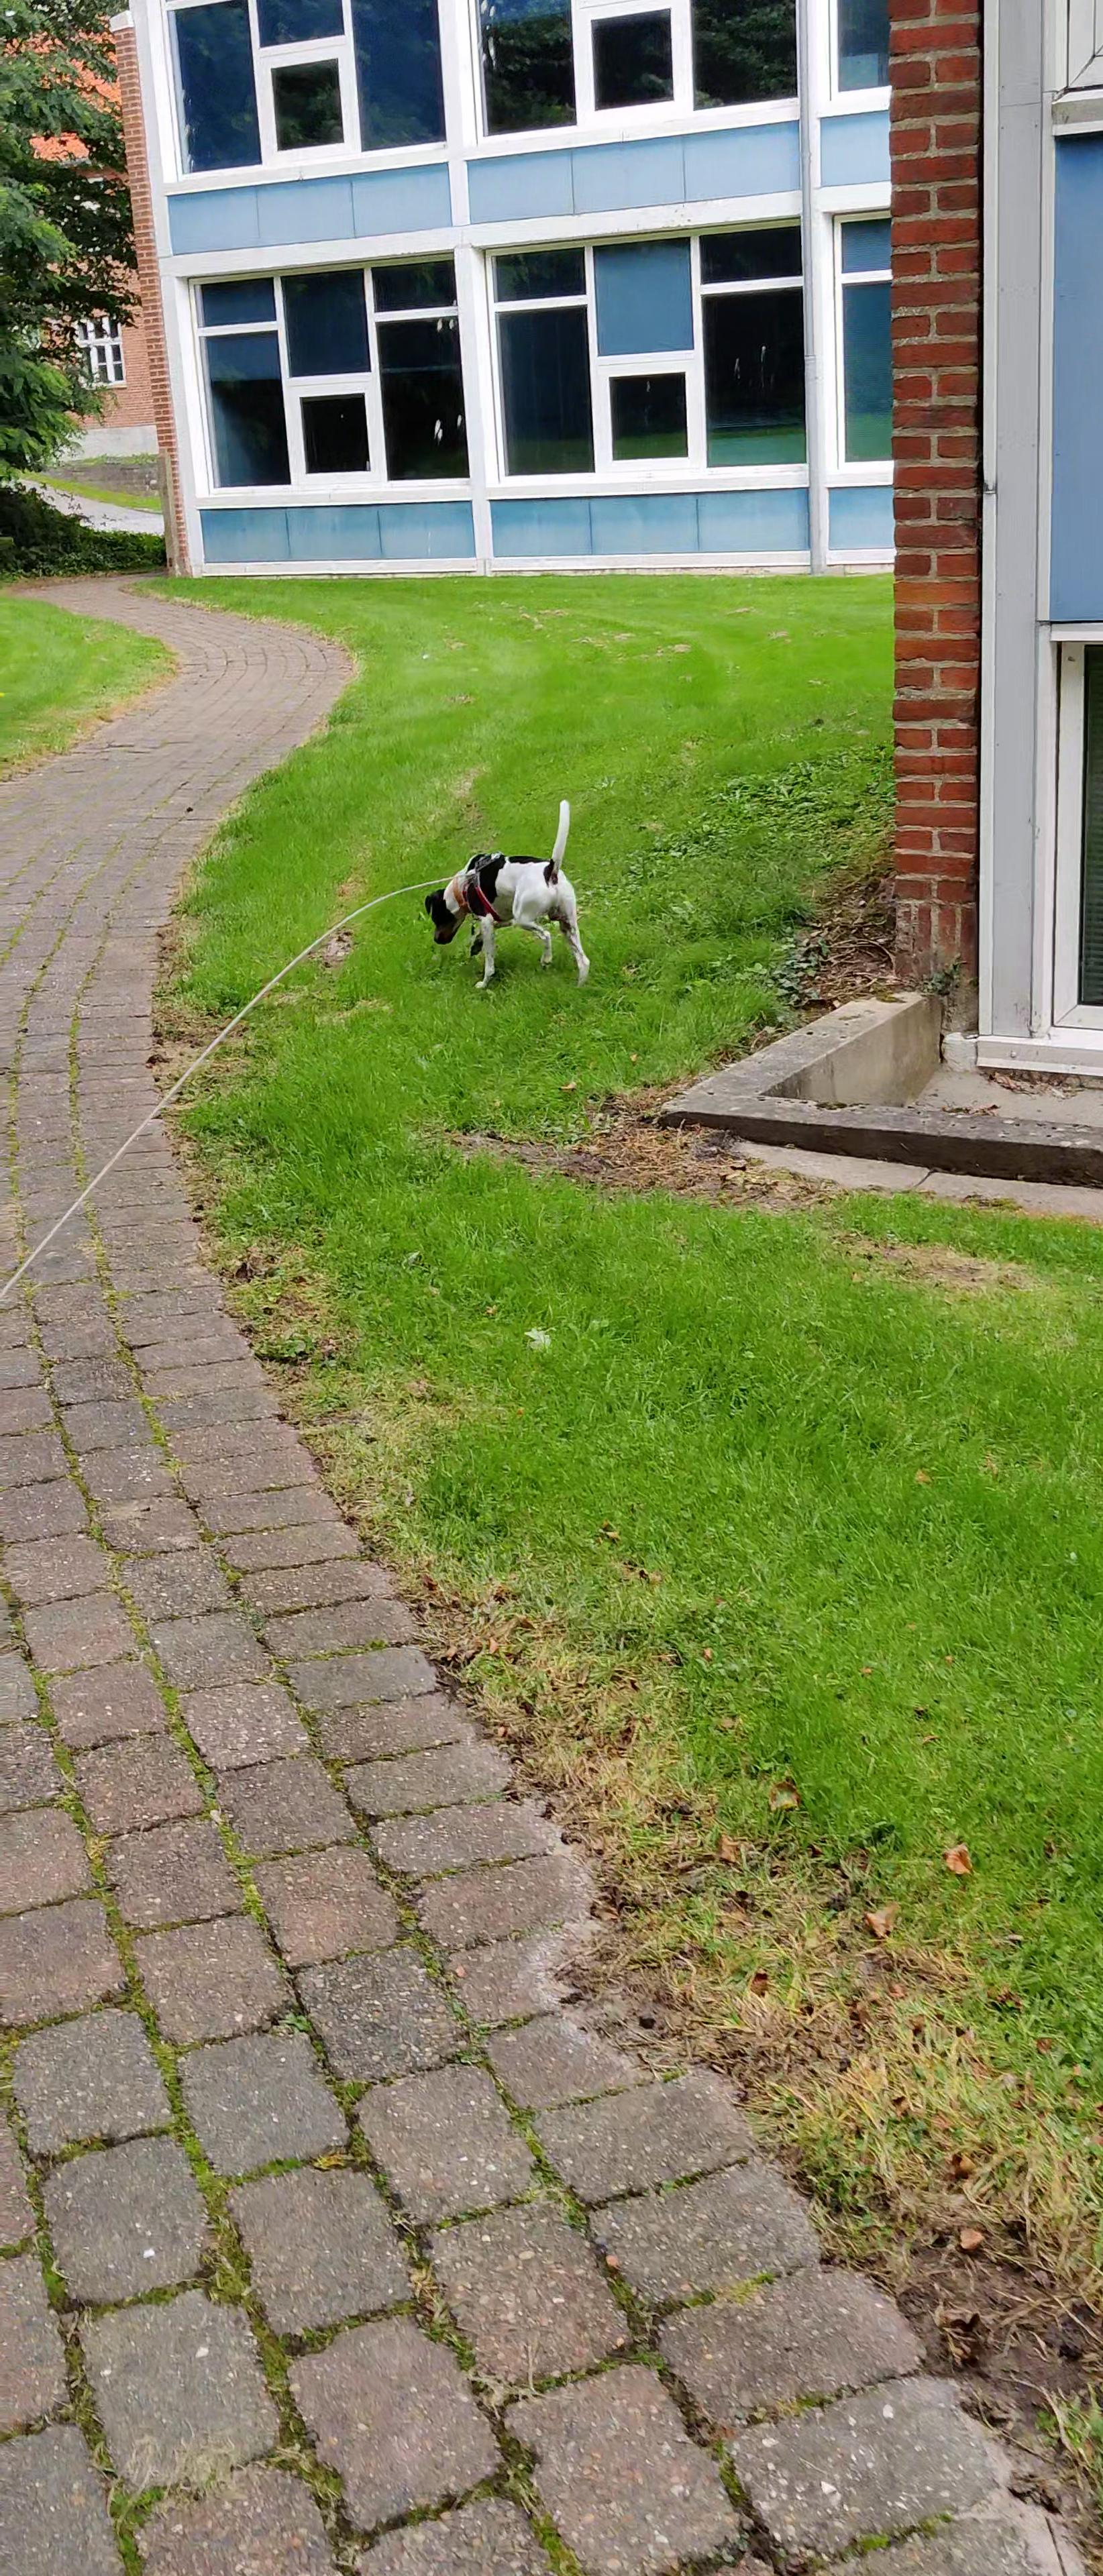Dog: (424, 793, 592, 994)
